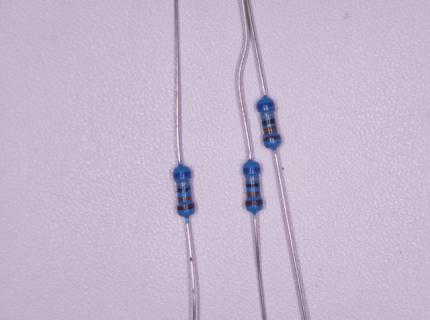Black band: (261, 119, 277, 126), (177, 187, 191, 193), (246, 183, 260, 188)
Blue band: (257, 101, 275, 110), (173, 171, 191, 178), (243, 167, 261, 173)
Brown band: (263, 134, 282, 142), (177, 203, 195, 211), (245, 200, 263, 207)
Grey band: (260, 113, 275, 120), (245, 176, 260, 182), (176, 181, 190, 186)
Orange band: (262, 125, 278, 134), (246, 191, 261, 197), (178, 196, 192, 202)
